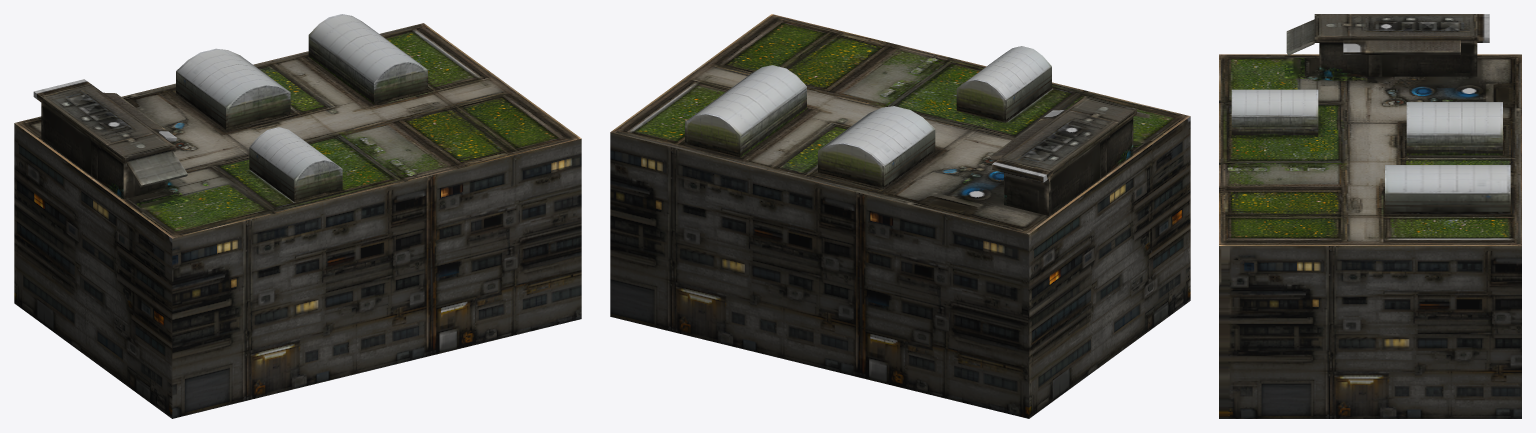
The model's file is CP_Slums_Greenhouse.fbx.
The picture shows the model from 3 angles, left to right: view 1: azimuth 30°, elevation 25°; view 2: azimuth 150°, elevation 25°; view 3: azimuth 270°, elevation 25°; orthographic projection. The views are drawn at different scales.
Visible parts, largest first — view 1: CP_Slums_Greenhouse; view 2: CP_Slums_Greenhouse; view 3: CP_Slums_Greenhouse.
Part boxes in pixels (x1=…): CP_Slums_Greenhouse: x1=14, y1=14, x2=581, y2=418; CP_Slums_Greenhouse: x1=610, y1=14, x2=1190, y2=418; CP_Slums_Greenhouse: x1=1219, y1=14, x2=1521, y2=418.
Bounding box in the file's own units: 3539 × 1847 × 2364.
